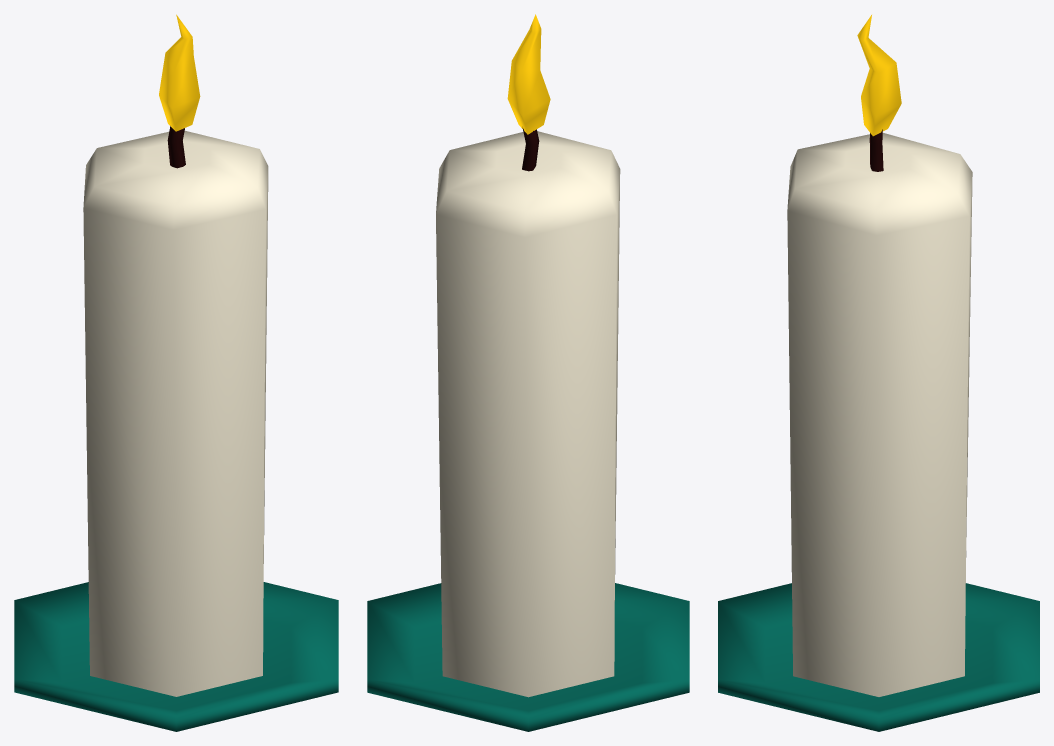
Rendered from HWN20_Candle_10.glb.
3 renders of one model, left to right at view 1: azimuth 30°, elevation 25°; view 2: azimuth 150°, elevation 25°; view 3: azimuth 270°, elevation 25°, orthographic.
Visible parts, largest first — view 1: HWN20_Candle_10; view 2: HWN20_Candle_10; view 3: HWN20_Candle_10.
Boxes of the visible parts, x1,y1,x2,y2 form: HWN20_Candle_10: (14,14,338,731); HWN20_Candle_10: (367,14,689,731); HWN20_Candle_10: (718,15,1039,731).
Size of what is drawn, in the model's own units: 0.2391 by 0.4698 by 0.2071.
2 materials, 2 textured.
